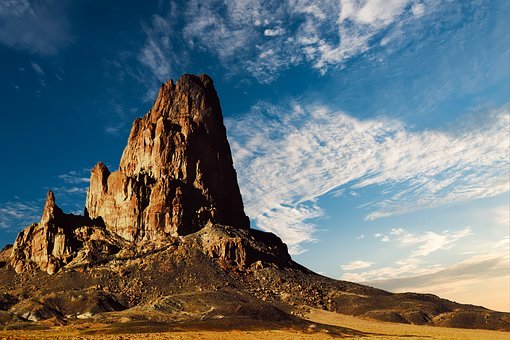mountain: (31, 91, 347, 336)
sky: (18, 7, 510, 246)
